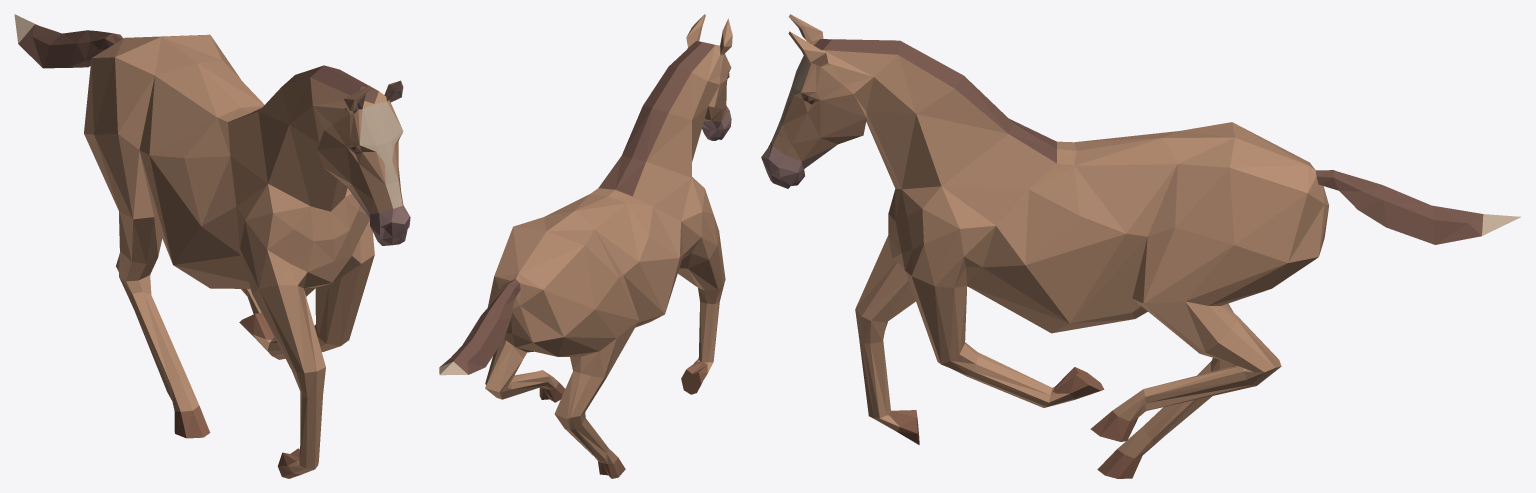
File: Horse.glb
3 views of the same model, side by side, from view 1: azimuth 30°, elevation 25°; view 2: azimuth 150°, elevation 25°; view 3: azimuth 270°, elevation 25° (orthographic). The views are drawn at different scales.
Visible parts, largest first — view 1: mesh_0; view 2: mesh_0; view 3: mesh_0.
Part boxes in pixels (left/top/right/bottom): mesh_0: left=14, top=14, right=410, bottom=478; mesh_0: left=439, top=14, right=732, bottom=478; mesh_0: left=761, top=14, right=1520, bottom=478.
Size of the model in its own units: 65.19 by 188 by 277.
